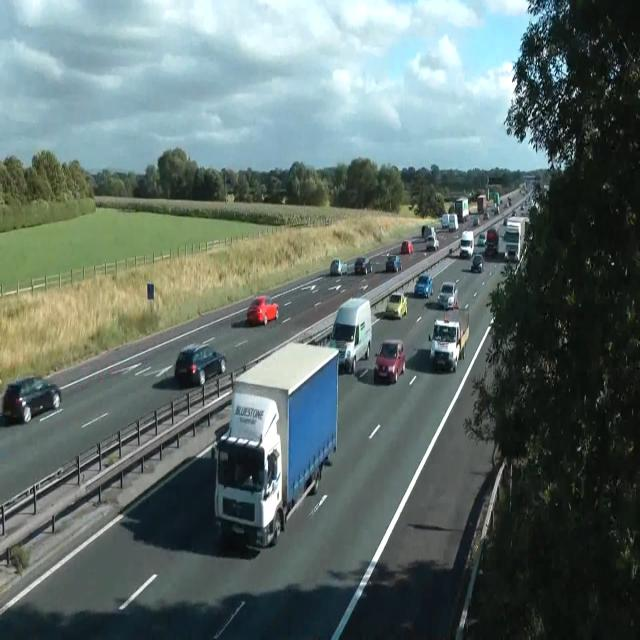bus: (2, 375, 62, 424), (174, 342, 227, 387), (374, 339, 406, 383), (246, 295, 279, 325), (414, 274, 433, 298), (354, 256, 372, 275), (329, 257, 347, 275), (385, 253, 401, 272), (469, 253, 484, 273), (504, 247, 518, 261), (426, 234, 438, 250), (401, 240, 413, 254), (478, 232, 486, 245), (472, 217, 478, 226), (483, 212, 489, 220), (261, 193, 267, 201), (507, 196, 511, 206), (280, 198, 286, 204), (499, 198, 503, 204)
jeep: (436, 280, 458, 309), (385, 291, 407, 318), (485, 228, 499, 255)
minibus: (213, 341, 339, 548), (329, 297, 371, 374), (428, 304, 469, 372), (504, 216, 530, 262), (459, 230, 473, 259), (455, 196, 469, 222), (448, 213, 458, 232), (477, 195, 487, 212), (441, 213, 449, 230), (492, 191, 500, 206)
